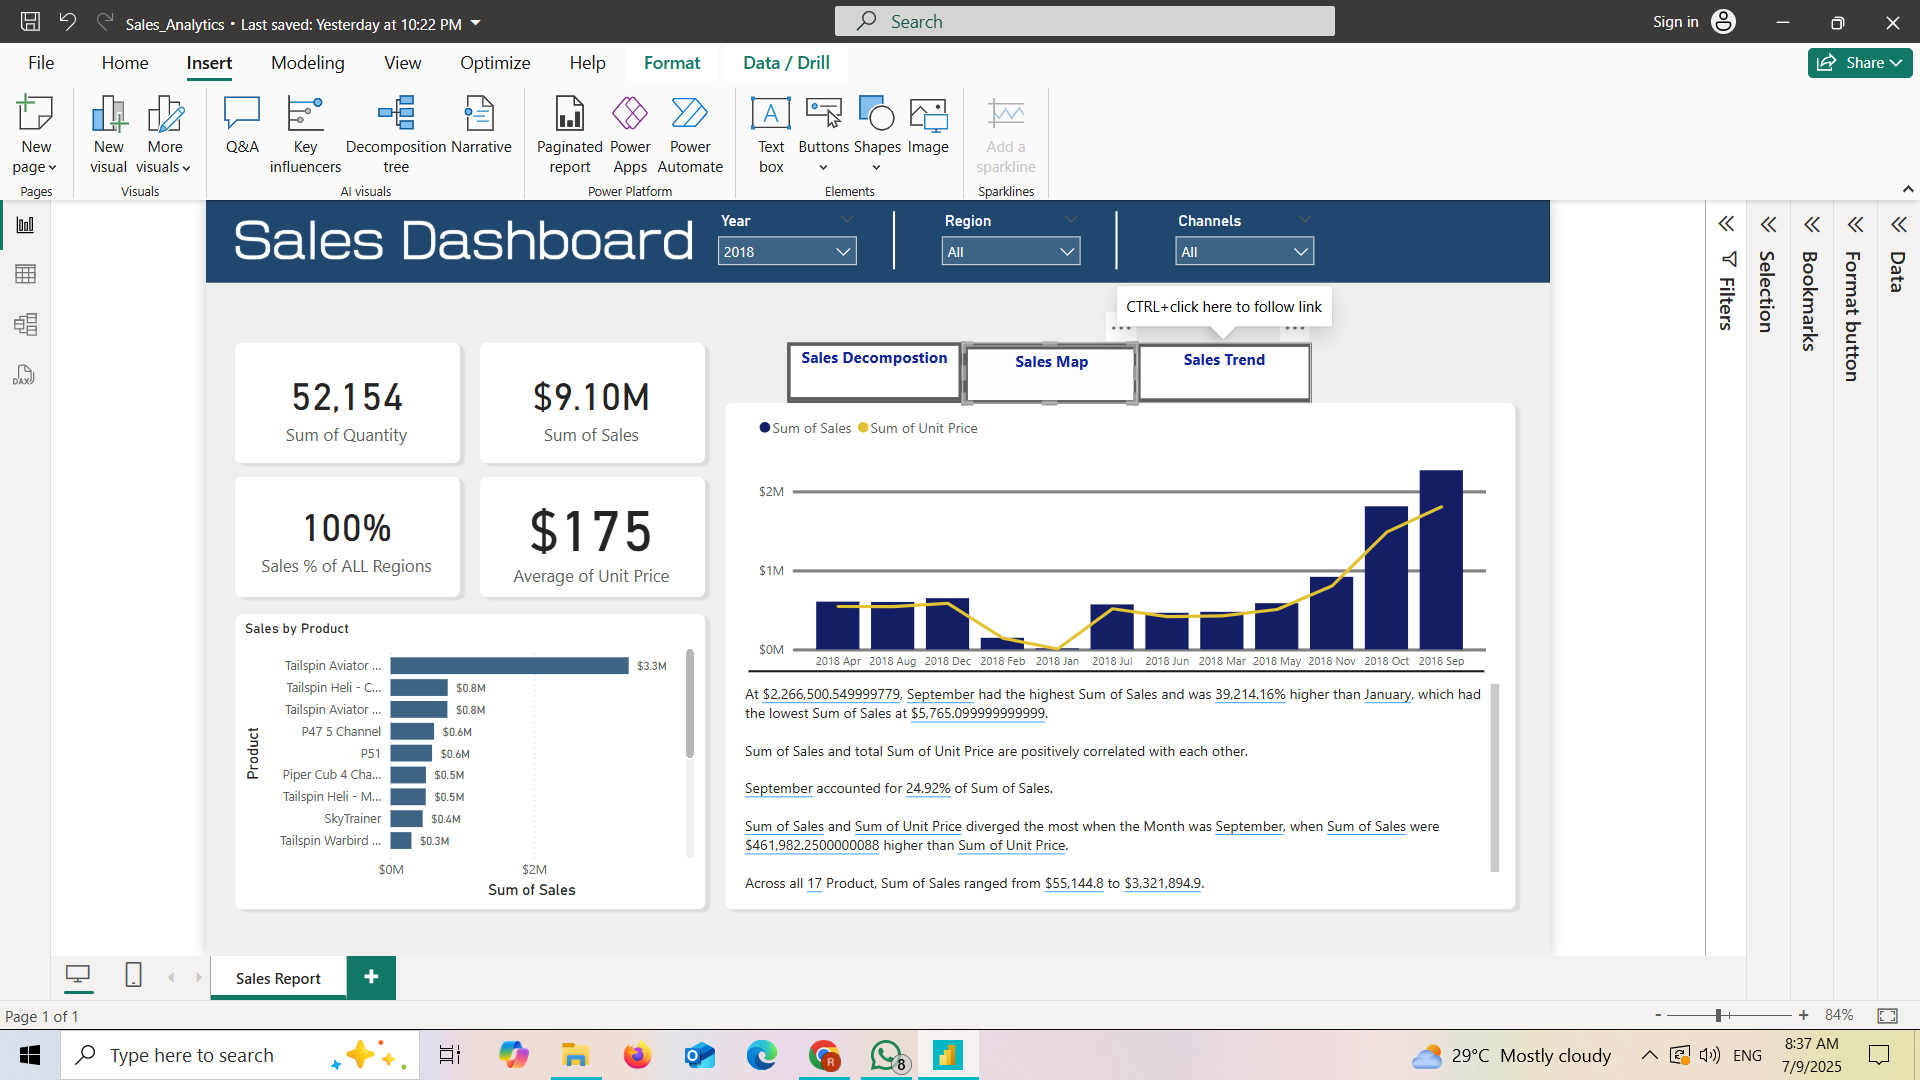

Layout of this report page (visuals, bound fields, positions):
{"tool":"powerbi","page":{"name":"Sales Report","canvas":[1280,720],"ordinal":0},"visuals":[{"type":"card","title":"Card Quantity","fields":{"Values":["Sum(Sales.Quantity)"]},"box":[29.5,138.7,208.1,110.5],"z":0},{"type":"card","title":"Card region","fields":{"Values":["Sales.Sales % of ALL Regions"]},"box":[29.5,264.6,208.1,110.5],"z":1000},{"type":"card","title":" Card sales","fields":{"Values":["Sum(Sales.Sales)"]},"box":[263.4,138.7,208.1,110.5],"z":2000},{"type":"card","title":"Card Unit price","fields":{"Values":["Avg(Sales.Unit Price)"]},"box":[263.4,264.6,208.1,110.5],"z":3000},{"type":"barChart","title":"Sales by Product","fields":{"Category":["Product.Product"],"Y":["Sum(Sales.Sales)"]},"box":[32,400,438,270],"z":4000},{"type":"slicer","fields":{"Values":["Date.Year"]},"box":[477.8,5.6,152,61],"z":5000},{"type":"slicer","fields":{"Values":["Region.Region"]},"box":[690,5.6,152.2,61.1],"z":6000},{"type":"slicer","fields":{"Values":["Product.Channels"]},"box":[913.3,5.6,152.2,61.1],"z":7000},{"type":"shape","box":[620,11.1,70,55.6],"z":8000},{"type":"shape","box":[832.2,11.1,70,55.6],"z":9000},{"type":"actionButton","title":"btn active:Decomposition","box":[553.8,135.9,166.3,54.9],"z":10000},{"type":"actionButton","title":"btn active:Trend","box":[886.4,137.4,166.3,54.9],"z":11000},{"type":"actionButton","title":" btn active:map","box":[723,138.8,166.3,54.9],"z":12000},{"type":"shapeMap","title":"Hover on state for sales map","fields":{"Category":["State.State Code"],"Value":["Sum(Sales.Sales)"]},"box":[502.3,217.4,730.2,440.7],"z":14000},{"type":"actionButton","box":[553.8,135.9,166.3,57.8],"z":17001},{"type":"actionButton","box":[720.1,135.9,166.3,57.8],"z":17002},{"type":"actionButton","box":[886.4,135.9,166.3,57.8],"z":17003}]}

Visuals, with their boxes on the page's 1280x720 design canvas (x1, y1, x2, y2). These are canvas units, not pixel positions in the 1920x1080 screenshot, which may show the page scaled, cropped or inside an application window:
"Card Quantity" card: <box>30,139,238,249</box>
"Card region" card: <box>30,265,238,375</box>
" Card sales" card: <box>263,139,472,249</box>
"Card Unit price" card: <box>263,265,472,375</box>
"Sales by Product" barChart: <box>32,400,470,670</box>
slicer - Date.Year: <box>478,6,630,67</box>
slicer - Region.Region: <box>690,6,842,67</box>
slicer - Product.Channels: <box>913,6,1066,67</box>
shape: <box>620,11,690,67</box>
shape: <box>832,11,902,67</box>
"btn active:Decomposition" actionButton: <box>554,136,720,191</box>
"btn active:Trend" actionButton: <box>886,137,1053,192</box>
" btn active:map" actionButton: <box>723,139,889,194</box>
"Hover on state for sales map" shapeMap: <box>502,217,1232,658</box>
actionButton: <box>554,136,720,194</box>
actionButton: <box>720,136,886,194</box>
actionButton: <box>886,136,1053,194</box>
